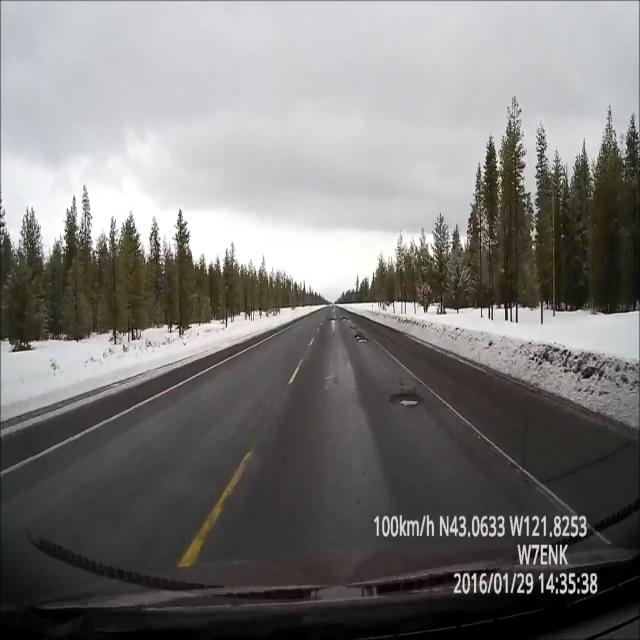Pothole: (388, 375, 426, 420), (353, 328, 374, 354)
